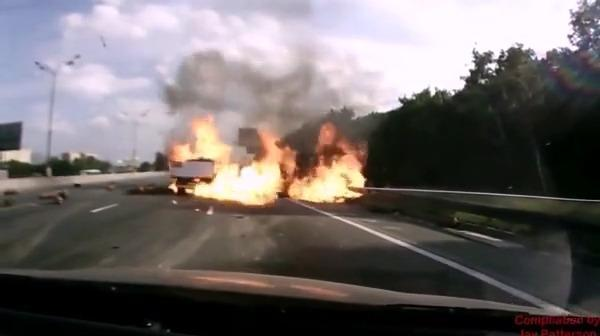fire: (159, 105, 372, 211)
